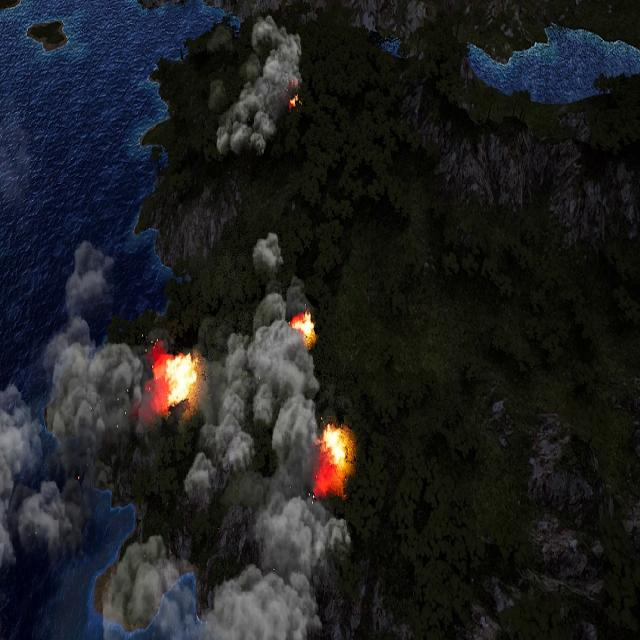fire: (152, 351, 199, 413), (322, 424, 352, 476), (290, 312, 314, 344), (286, 92, 300, 106)
smoke: (136, 228, 350, 638), (0, 236, 158, 572), (216, 3, 308, 152)
